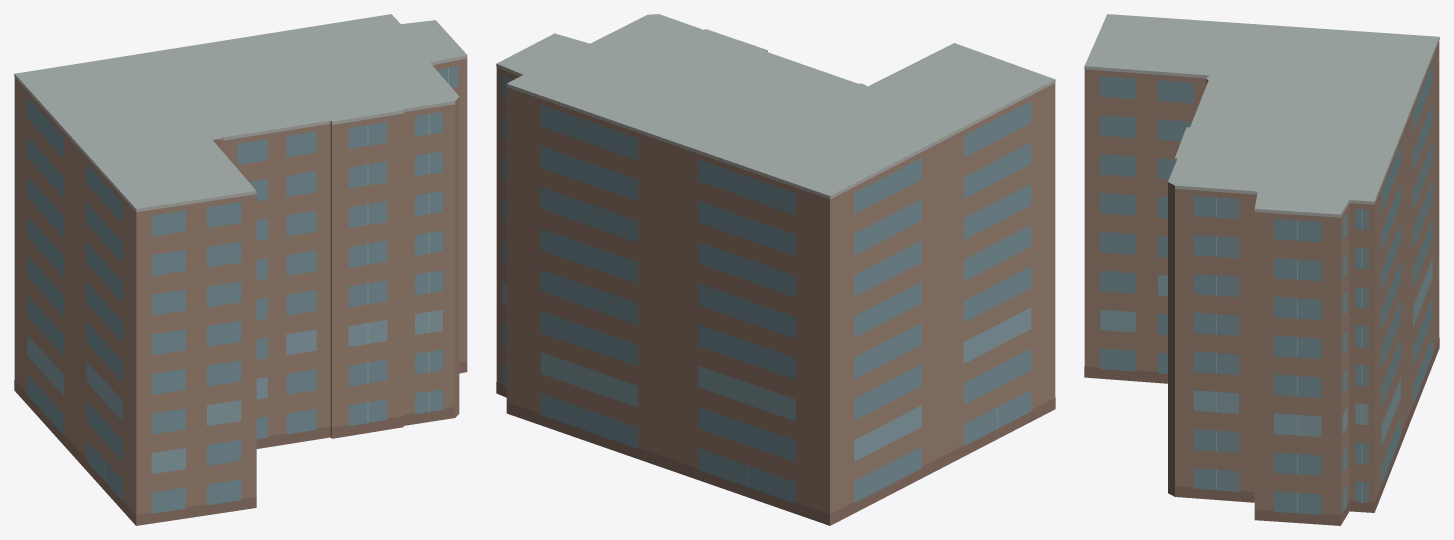
The model's file is survey-upis-32700249.glb.
The picture shows the model from 3 angles, left to right: view 1: azimuth 30°, elevation 25°; view 2: azimuth 150°, elevation 25°; view 3: azimuth 270°, elevation 25°; orthographic projection. The views are drawn at different scales.
Parts seen in each view (by area): view 1: survey-upis-32700249.tmp; view 2: survey-upis-32700249.tmp; view 3: survey-upis-32700249.tmp.
Part boxes in pixels (left/top/right/bottom): survey-upis-32700249.tmp: left=14, top=14, right=467, bottom=525; survey-upis-32700249.tmp: left=496, top=14, right=1055, bottom=525; survey-upis-32700249.tmp: left=1084, top=14, right=1439, bottom=525.
Size of the model in its own units: 33.17 by 24 by 24.81.
